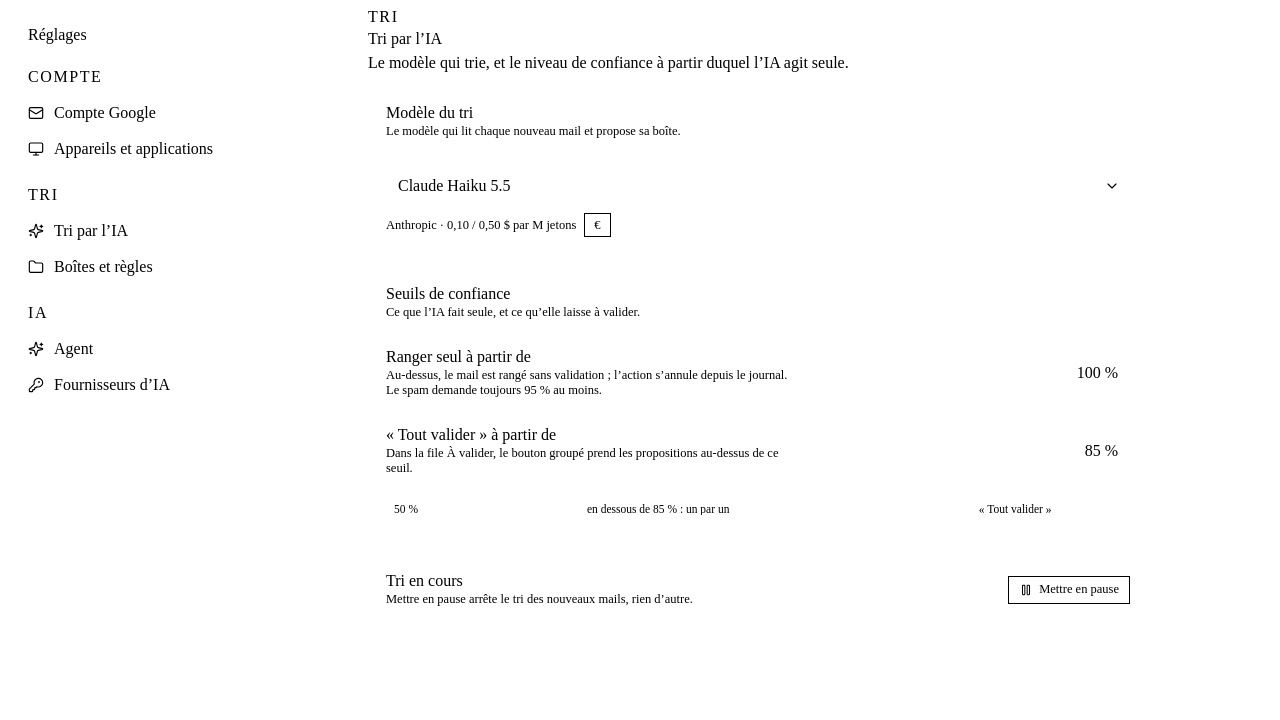
Settings › a reorder that fails half-way shows the order the server kept
Check: the heading "Réglages" is shown, box [28,26,87,43]
Click the link "Boîtes et règles" at (90, 266), box [28,258,153,275]
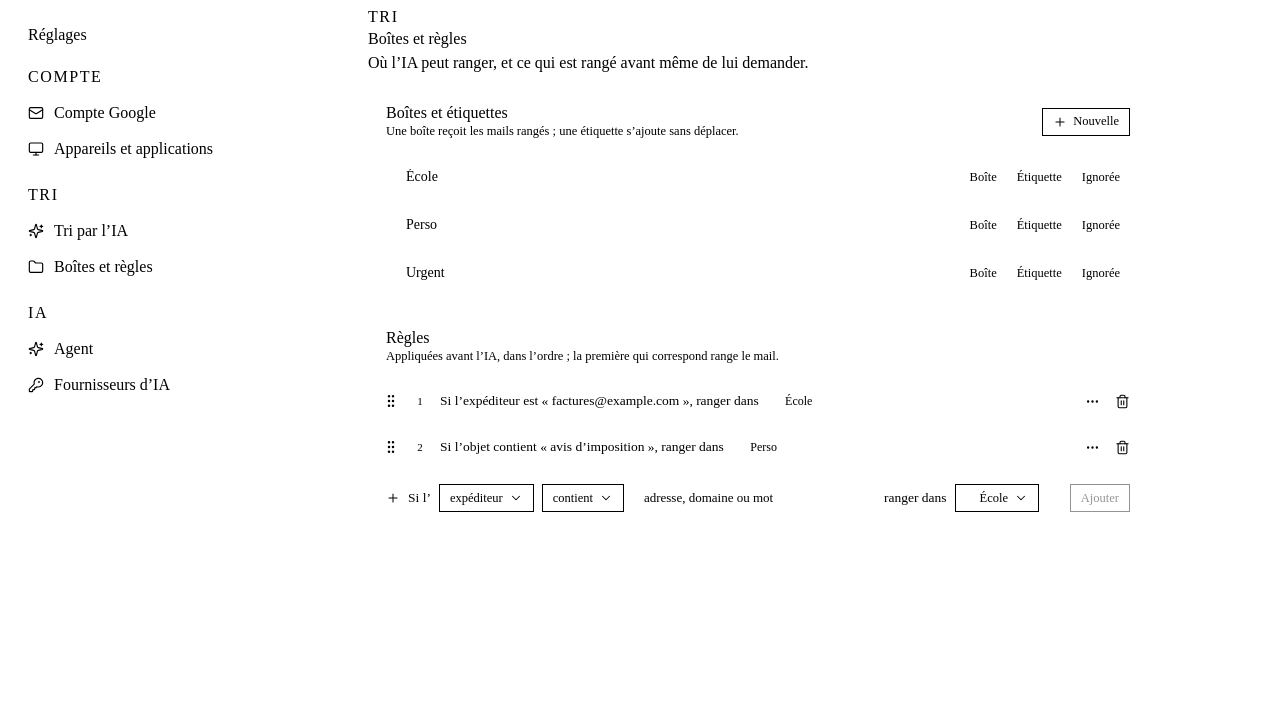
Click the button named "Actions de la règle 2" at (1092, 447), box [1078,433,1106,461]
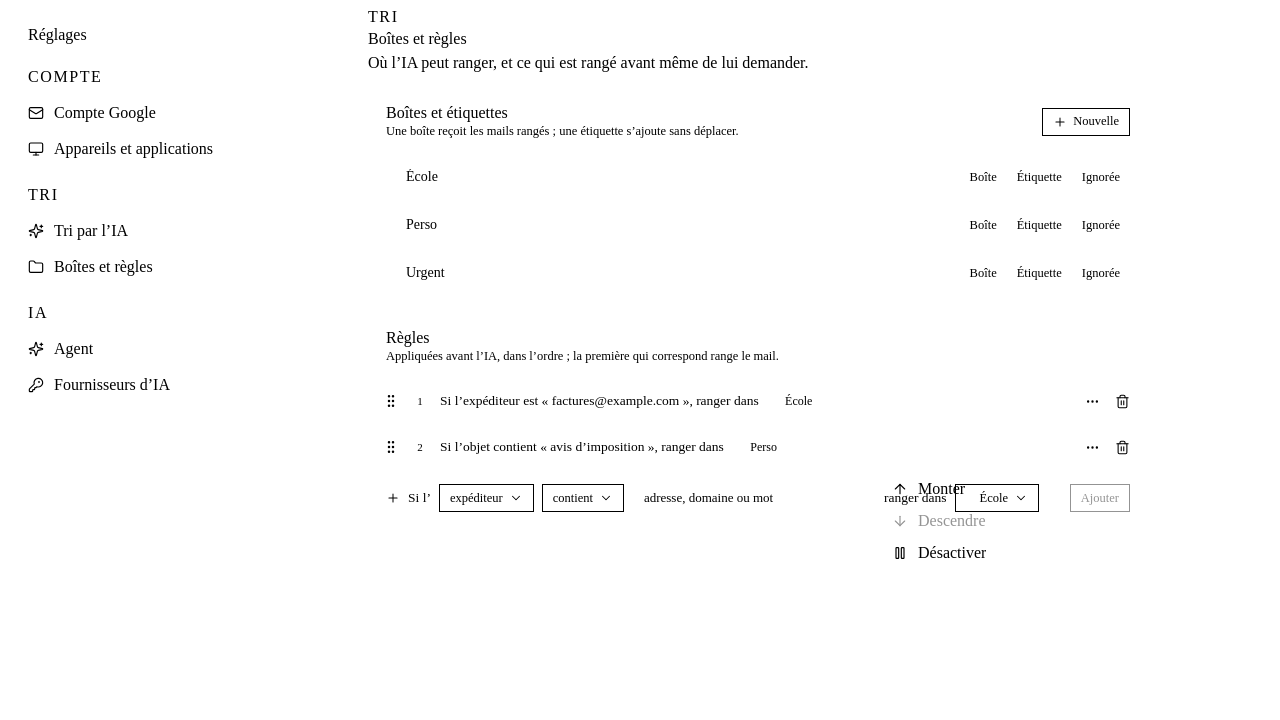
Click the menu item "Monter" at (929, 488), box [892,480,965,497]
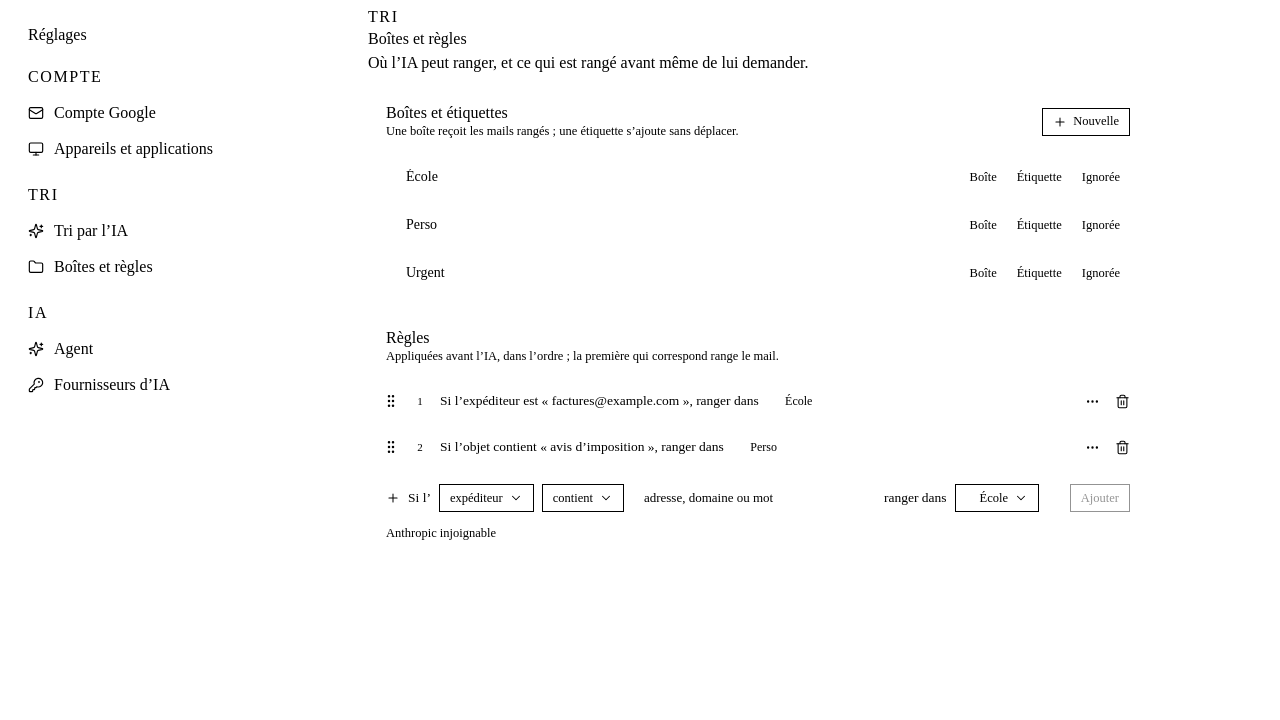
Check: the 4th list item shows "factures@example.com", box [552,392,679,408]
Check: the message reads "Anthropic injoignable", box [386,526,496,540]
